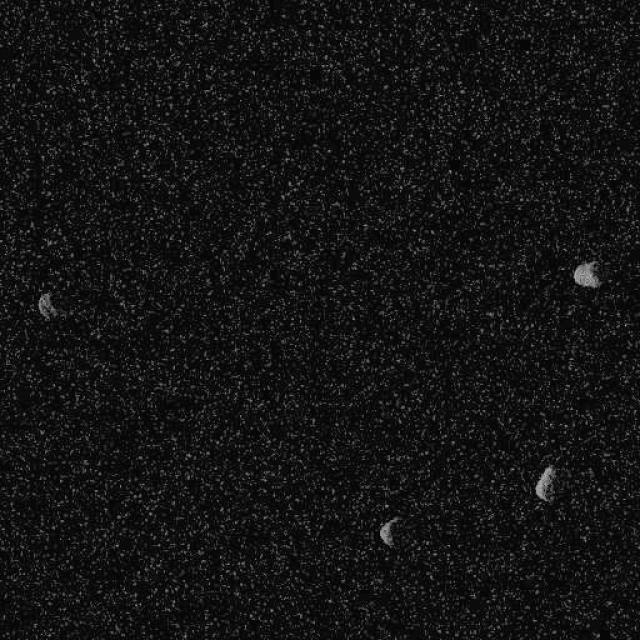D2: (534, 463, 556, 502), (571, 260, 600, 289), (378, 515, 400, 547), (36, 290, 58, 321)
